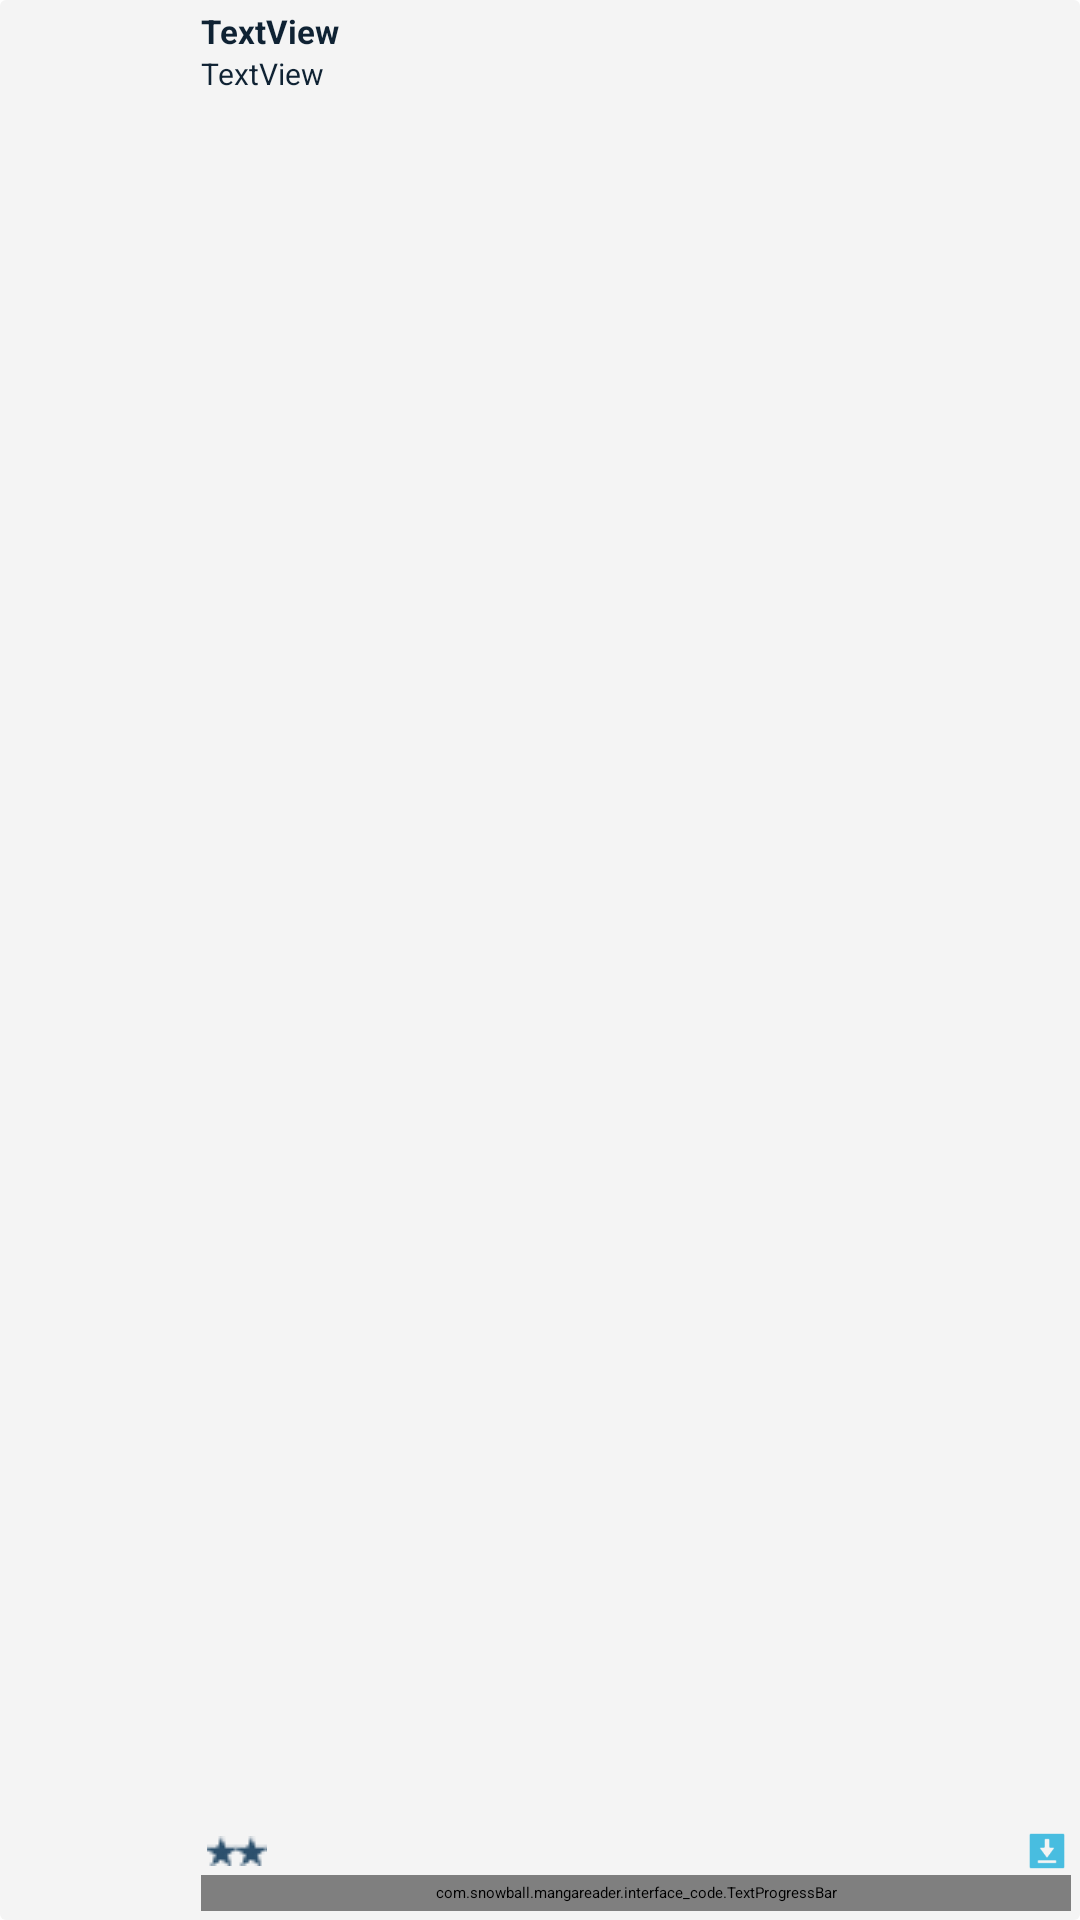

Icon bounding boxes for this 1080 × 1920 phone screenshot, format [x1, y1, x2, y2]:
download: [1029, 1833, 1065, 1869]
